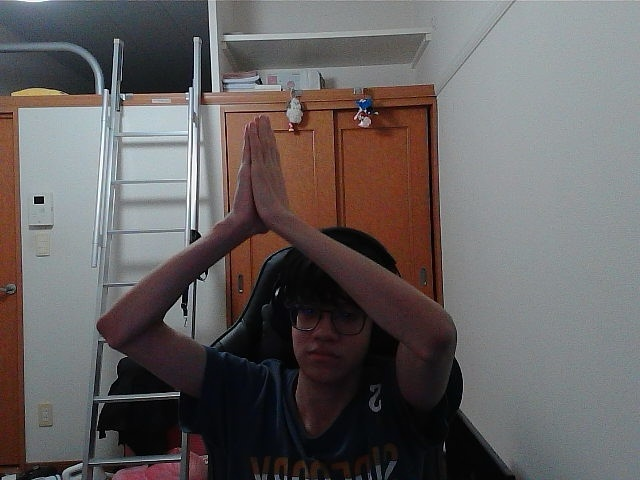pray: (244, 131, 274, 224)
